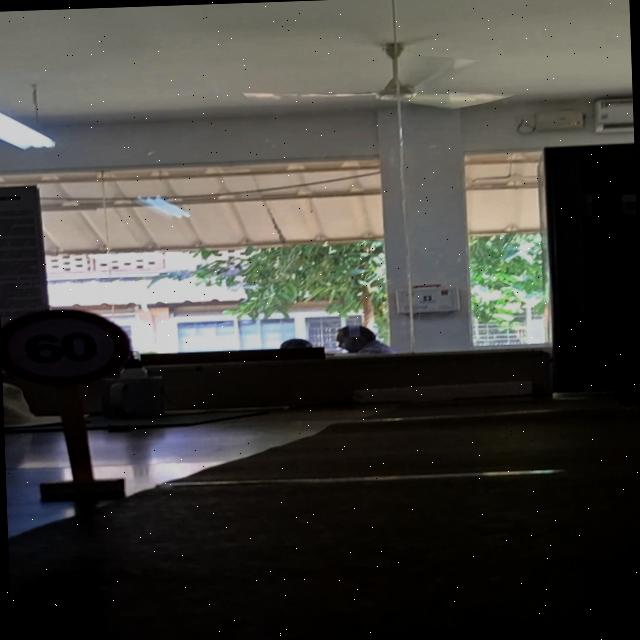Speed60: (0, 304, 133, 389)
